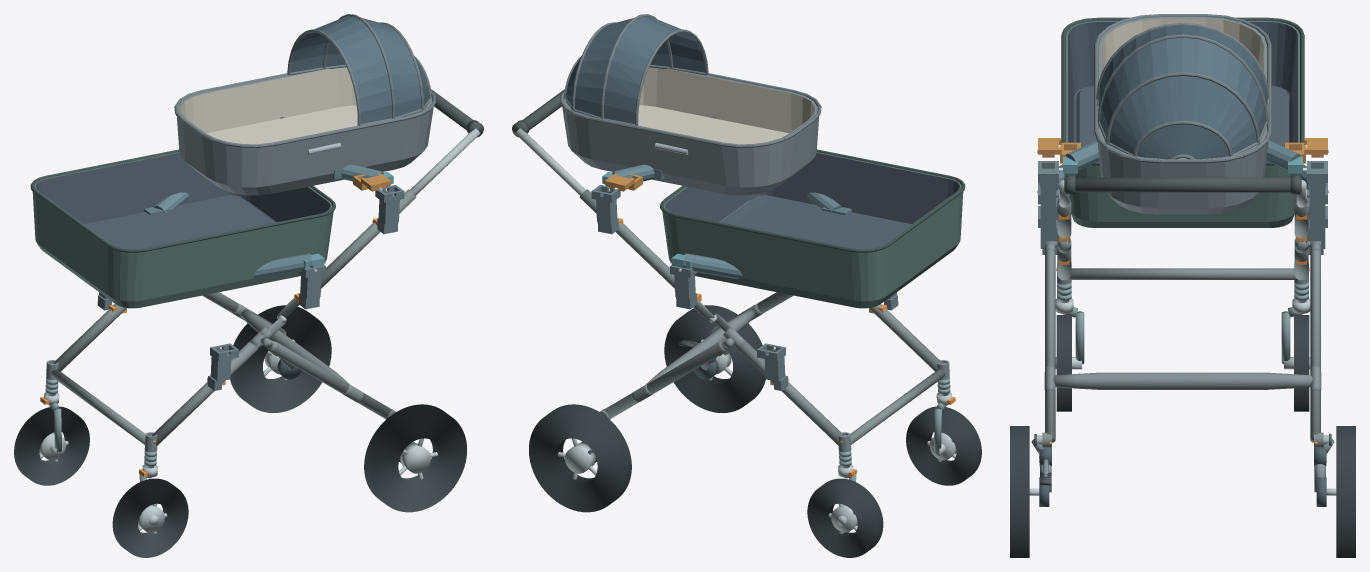
Rendered from D12_w650_state1_wheel_M.glb.
The picture shows the model from 3 angles, left to right: view 1: azimuth 30°, elevation 25°; view 2: azimuth 150°, elevation 25°; view 3: azimuth 270°, elevation 25°; orthographic projection. The views are drawn at different scales.
Visible parts, largest first — view 1: D12_Lower, D12_Upper, RL_tire.008, RR_tire.008, FL_tire.008, FR_tire.008, D12_Lower_Mount_M, V46_rear_leg_-1.009, main_lower_-1.009, front_fixed_round_tube.008, main_upper_-1.009, Universal_Cabin_Receiver_H_-1 (+8 smaller); view 2: D12_Lower, D12_Upper, RR_tire.008, RL_tire.008, FR_tire.008, FL_tire.008, D12_Lower_Mount_M, V46_rear_leg_1.009, main_lower_1.009, front_fixed_round_tube.008, main_upper_1.009, Universal_Cabin_Receiver_H_1 (+8 smaller); view 3: D12_Upper, D12_Lower, V46_rearbar.009, round_handle.008, front_fixed_round_tube.008, RL_tire.008, RR_tire.008, V46_rear_leg_1.009, V46_rear_leg_-1.009, D12_Upper_Mount_H, FL_tire.008, FR_tire.008 (+10 smaller).
Boxes of the visible parts, x1,y1,x2,y2 form: D12_Lower: [30, 149, 335, 308]; D12_Upper: [174, 14, 436, 195]; RL_tire.008: [364, 404, 466, 512]; RR_tire.008: [230, 305, 331, 412]; FL_tire.008: [112, 478, 188, 557]; FR_tire.008: [14, 406, 89, 485]; D12_Lower_Mount_M: [144, 192, 324, 278]; V46_rear_leg_-1.009: [269, 341, 391, 418]; main_lower_-1.009: [152, 341, 260, 445]; front_fixed_round_tube.008: [50, 369, 145, 444]; main_upper_-1.009: [321, 189, 416, 288]; Universal_Cabin_Receiver_H_-1: [375, 185, 404, 234]; D12_Lower: [660, 149, 965, 308]; D12_Upper: [559, 14, 821, 195]; RR_tire.008: [529, 404, 631, 512]; RL_tire.008: [664, 305, 765, 412]; FR_tire.008: [807, 478, 883, 557]; FL_tire.008: [906, 406, 981, 485]; D12_Lower_Mount_M: [671, 192, 851, 278]; V46_rear_leg_1.009: [604, 341, 726, 418]; main_lower_1.009: [735, 341, 843, 445]; front_fixed_round_tube.008: [850, 369, 945, 444]; main_upper_1.009: [579, 189, 674, 288]; Universal_Cabin_Receiver_H_1: [591, 185, 620, 234]; D12_Upper: [1094, 14, 1271, 214]; D12_Lower: [1061, 17, 1304, 227]; V46_rearbar.009: [1053, 372, 1312, 389]; round_handle.008: [1064, 177, 1301, 192]; front_fixed_round_tube.008: [1069, 268, 1296, 279]; RL_tire.008: [1010, 426, 1029, 557]; RR_tire.008: [1336, 426, 1355, 557]; V46_rear_leg_1.009: [1310, 248, 1320, 442]; V46_rear_leg_-1.009: [1045, 248, 1055, 442]; D12_Upper_Mount_H: [1059, 140, 1306, 176]; FL_tire.008: [1056, 315, 1071, 411]; FR_tire.008: [1294, 315, 1309, 411].
Size of the model in its own units: 1.16 by 1.32 by 0.7871.
